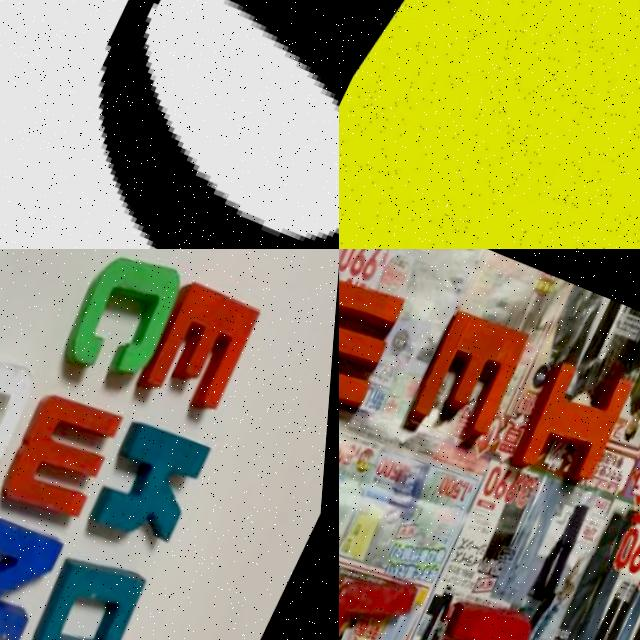A: (418, 591, 546, 640)
C: (58, 249, 191, 388)
D: (24, 546, 156, 640)
E: (398, 304, 536, 459), (139, 282, 265, 417)
I: (513, 354, 640, 488)
K: (92, 415, 219, 545)
N: (0, 510, 72, 640)
Q: (0, 342, 46, 495)
U: (339, 559, 431, 640)
W: (0, 386, 128, 531), (339, 267, 407, 422)
